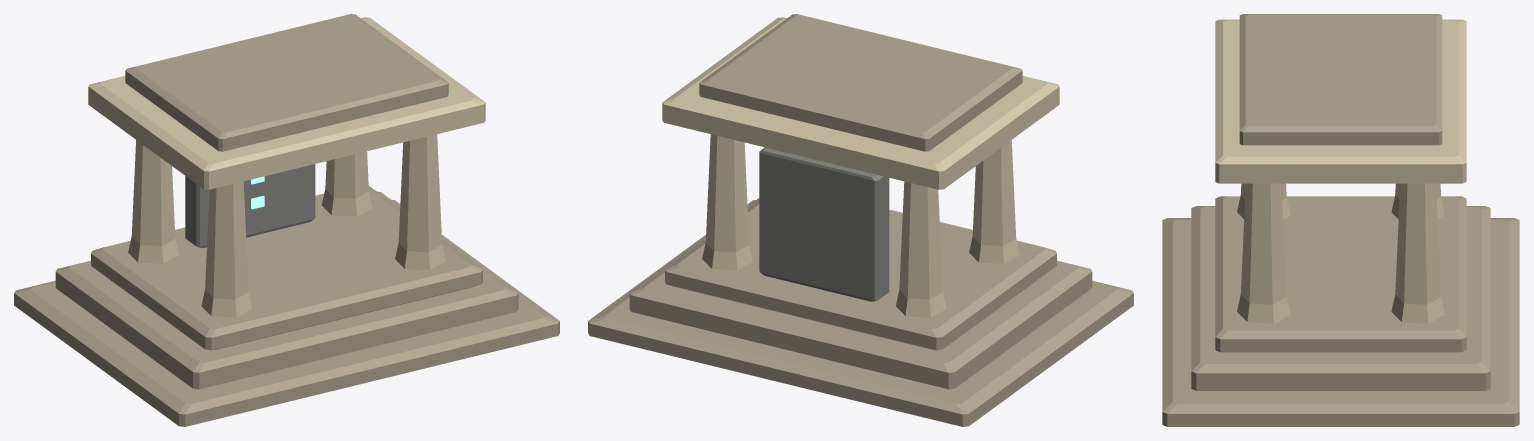
Rendered from SM_RUI_BLD_000_MemorySanctum.glb.
3 views of the same model, side by side, from view 1: azimuth 30°, elevation 25°; view 2: azimuth 150°, elevation 25°; view 3: azimuth 270°, elevation 25° (orthographic). The views are drawn at different scales.
Parts seen in each view (by area): view 1: SM_RUI_BLD_000_MemorySanctum; view 2: SM_RUI_BLD_000_MemorySanctum; view 3: SM_RUI_BLD_000_MemorySanctum.
Boxes of the visible parts, left/top/right/bottom form: SM_RUI_BLD_000_MemorySanctum: left=14, top=14, right=559, bottom=426; SM_RUI_BLD_000_MemorySanctum: left=588, top=14, right=1133, bottom=426; SM_RUI_BLD_000_MemorySanctum: left=1162, top=14, right=1519, bottom=426.
Bounding box in the file's own units: 4.8 × 3.01 × 3.7.
